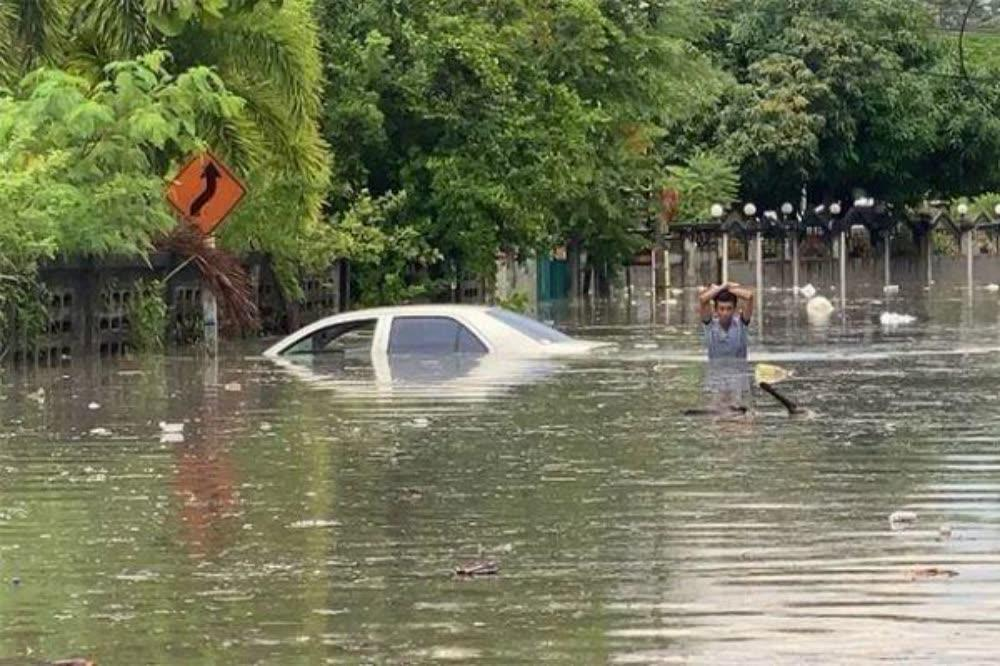water: (0, 291, 999, 665)
